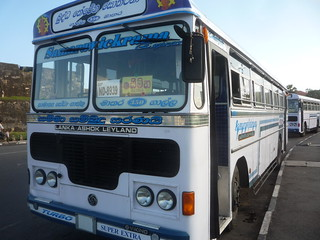bus: (26, 1, 288, 240), (287, 93, 320, 137)
